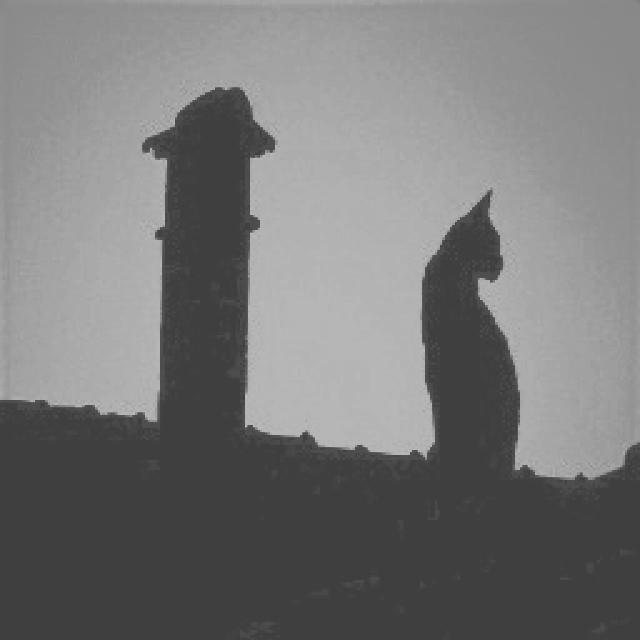cat: (412, 186, 522, 472)
